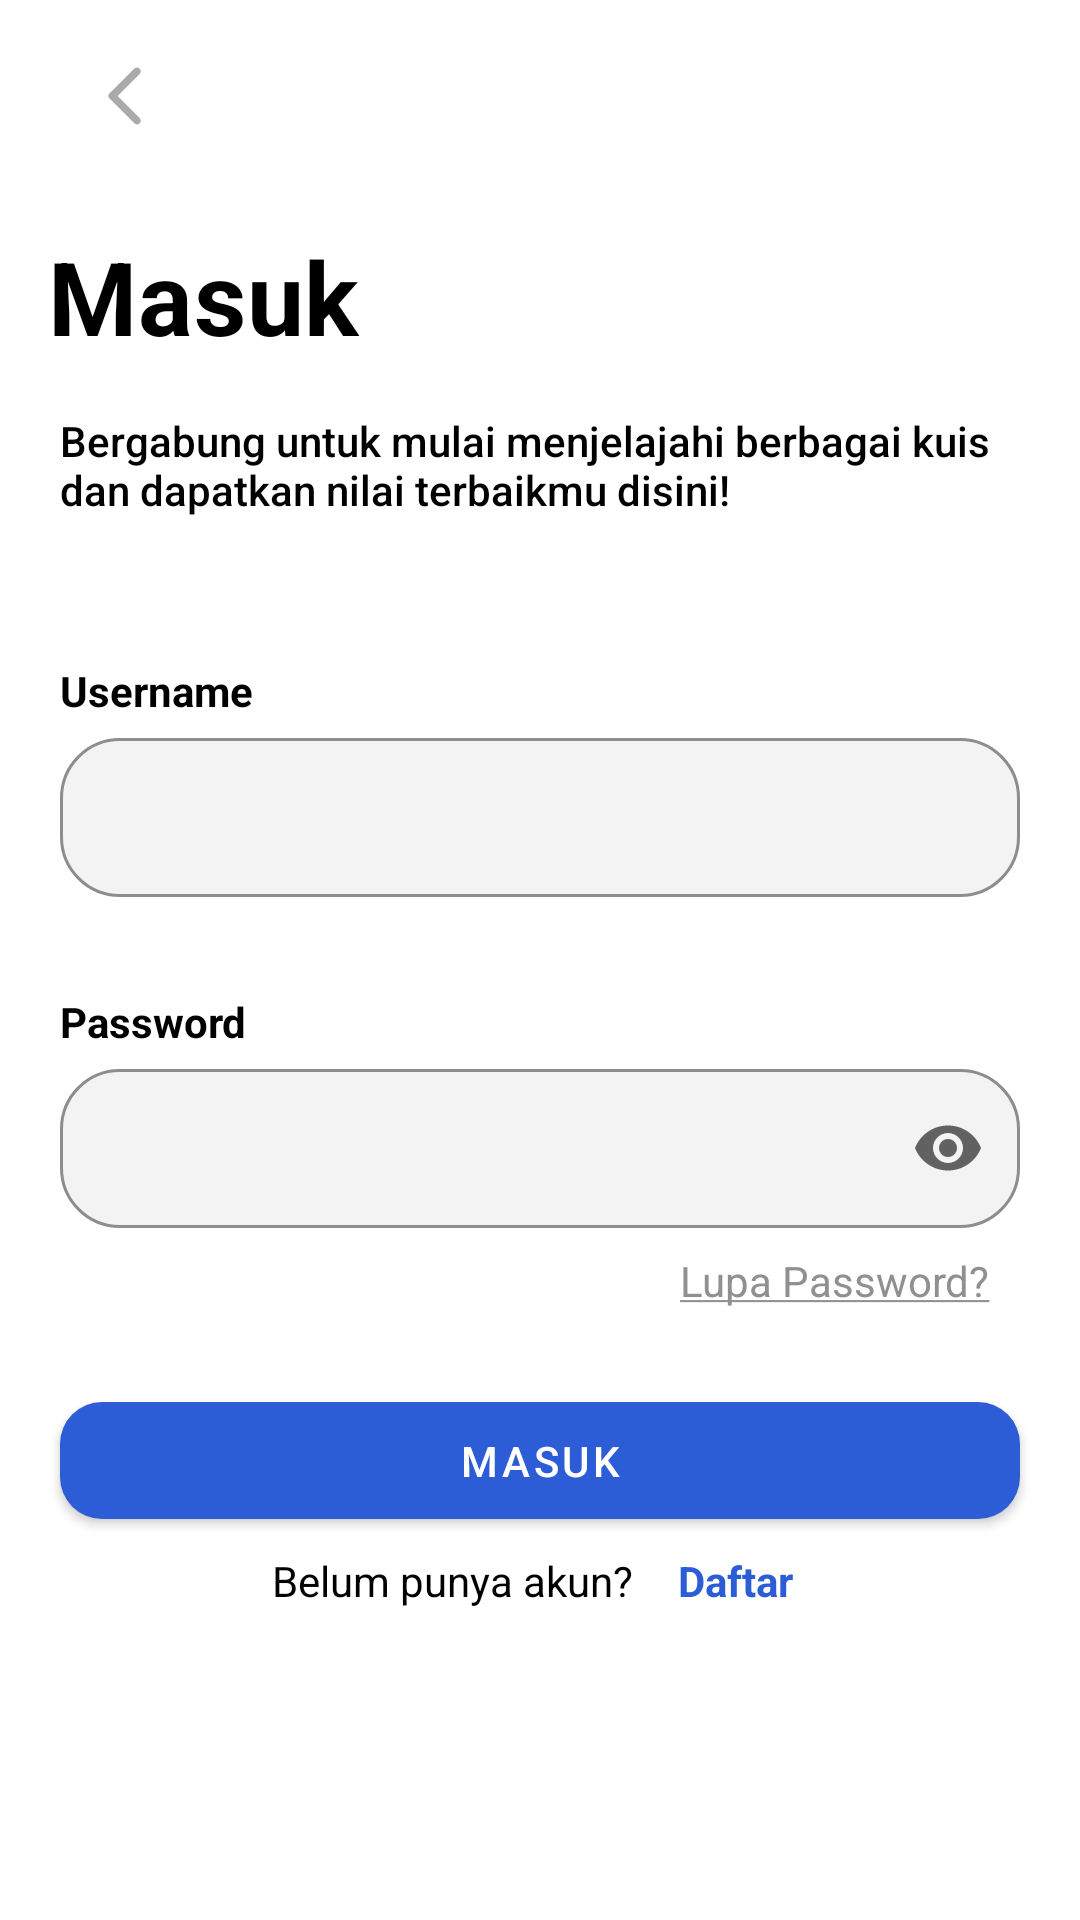

Icons on this 1080px×1920px Android screen, each with the point to tap as (x=x, y=y):
Back button: (x=124, y=96)
